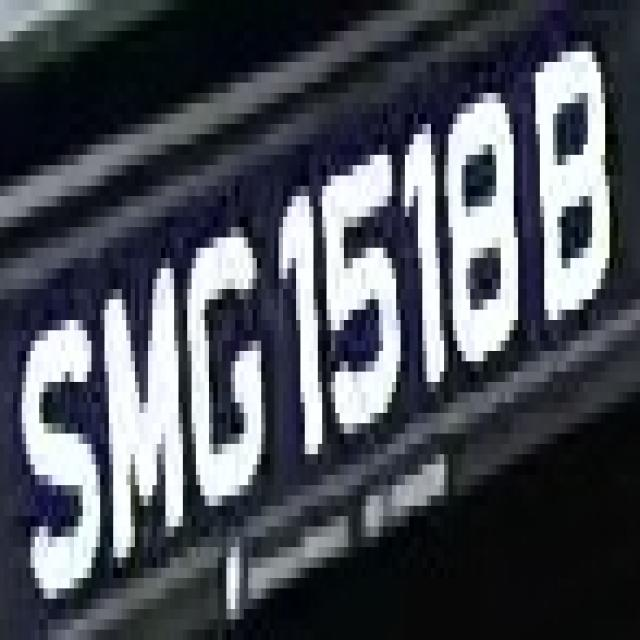1: (266, 155, 326, 475), (379, 103, 431, 434)
5: (305, 134, 387, 475)
8: (427, 103, 522, 392)
B: (527, 52, 618, 351)
G: (178, 217, 274, 537)
M: (100, 279, 196, 578)
S: (18, 279, 104, 588)
